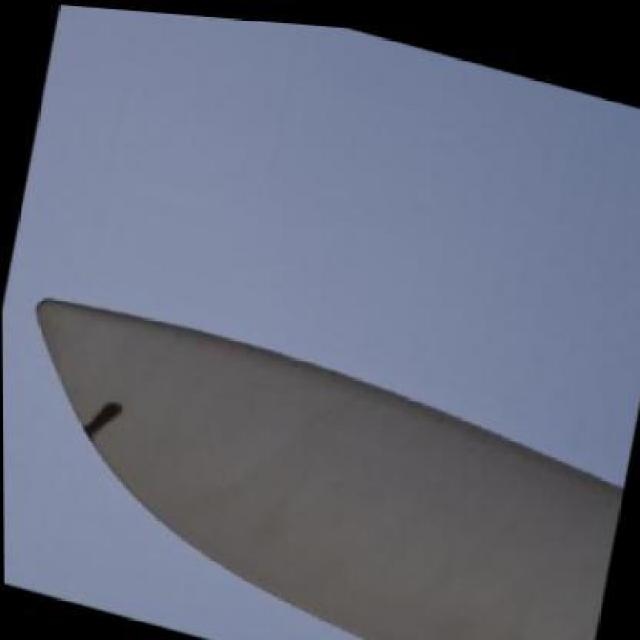Burn Mark: (78, 392, 125, 445)
